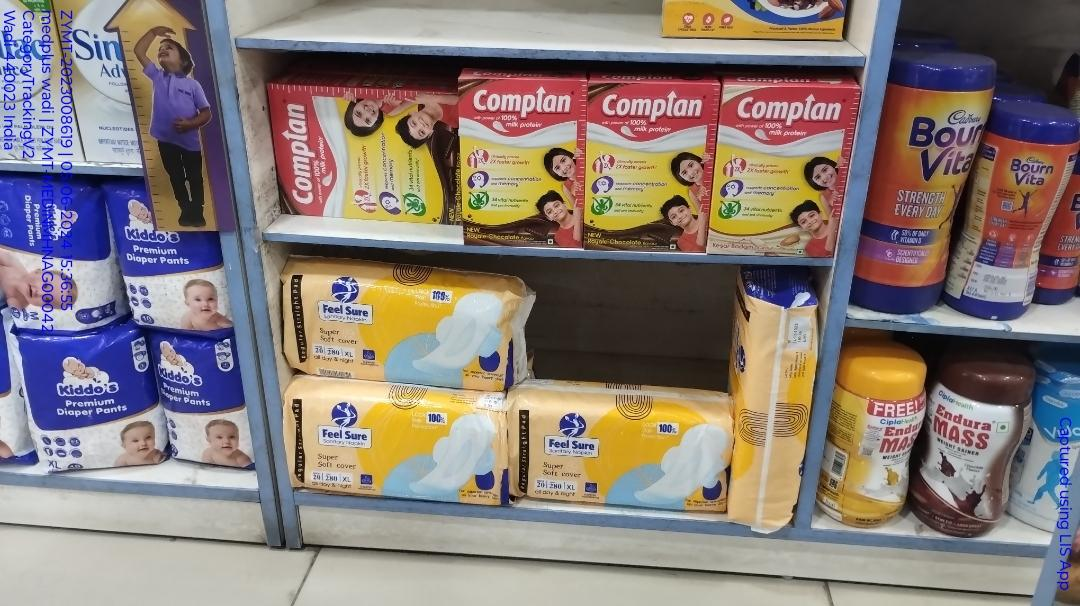BOURN_VITA_1_KG_JAR: (869, 54, 980, 317)
COMPLAN_CHOCOLATE_500_GMS_PACK: (586, 80, 714, 257), (461, 82, 581, 254)
COMPLAN_KESAR_BADAM_500_GMS_PACK: (715, 85, 850, 256)
